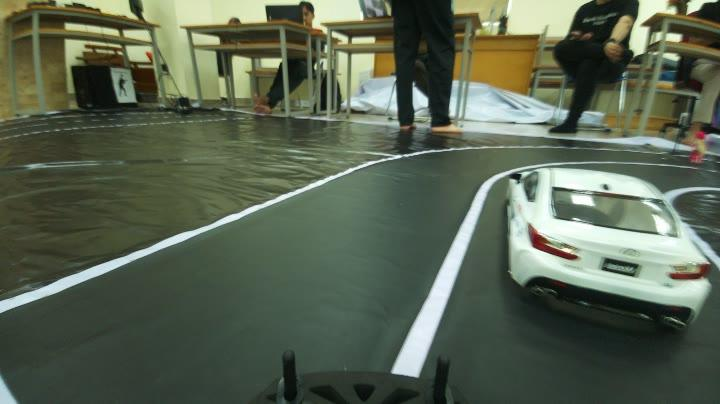car: (505, 155, 704, 339)
